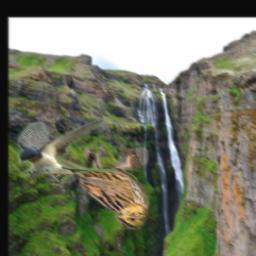Sparrow: (57, 147, 150, 229)
Swallow: (18, 117, 114, 182)
